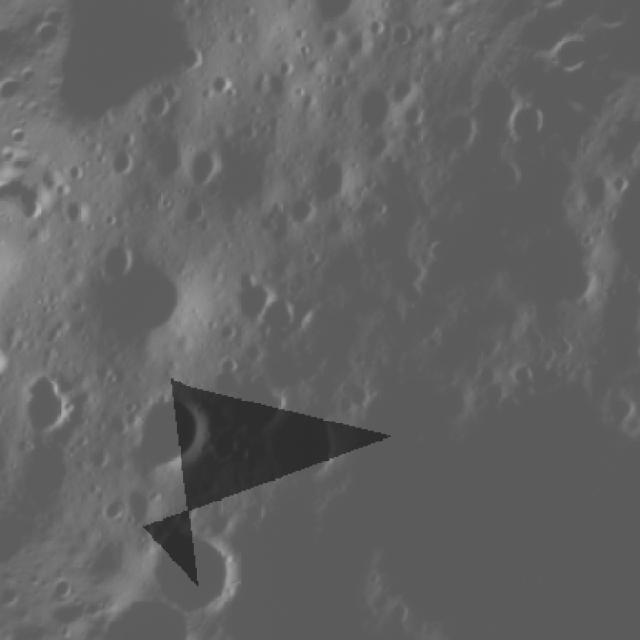crater: (59, 225, 212, 373), (125, 499, 264, 632), (106, 374, 232, 500), (247, 385, 365, 504), (1, 361, 90, 454), (210, 257, 292, 343), (121, 117, 199, 198), (165, 132, 240, 208), (338, 69, 412, 145), (298, 146, 371, 220), (418, 96, 490, 169), (246, 279, 317, 353), (495, 89, 563, 158), (192, 54, 251, 118), (272, 179, 331, 238), (292, 0, 377, 40), (589, 378, 640, 439), (495, 348, 551, 402), (165, 35, 218, 87), (56, 189, 101, 237), (0, 340, 20, 392)
